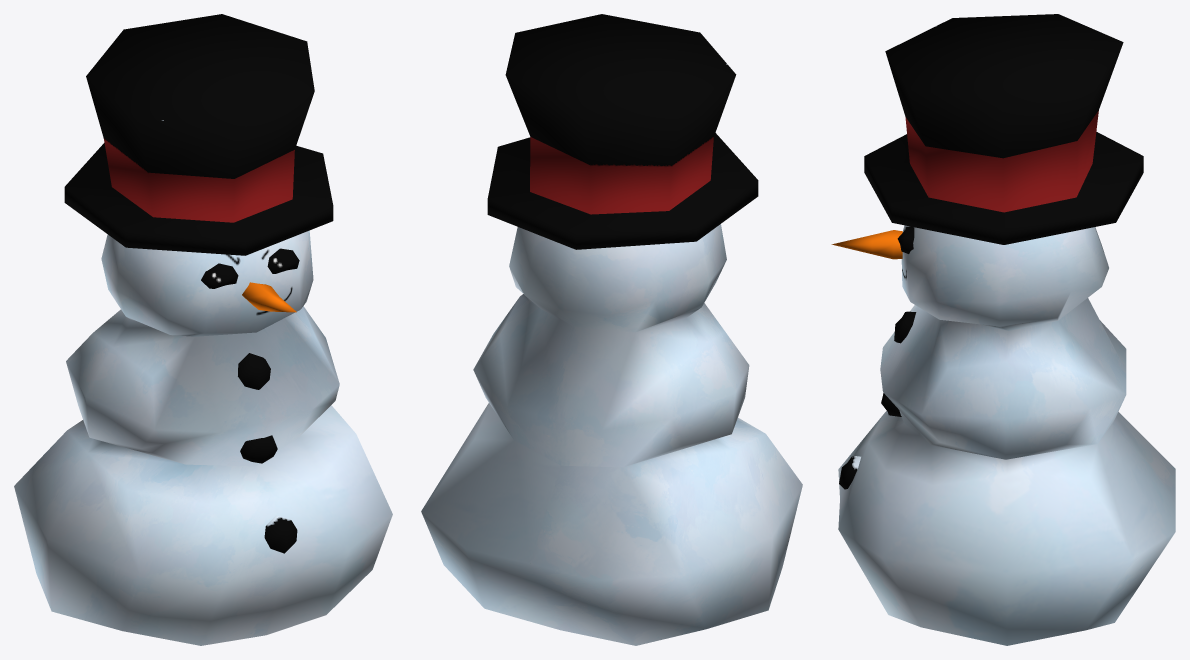
Rendered from Snowman_front.fbx.
3 views of the same model, side by side, from view 1: azimuth 30°, elevation 25°; view 2: azimuth 150°, elevation 25°; view 3: azimuth 270°, elevation 25° (orthographic).
Parts seen in each view (by area): view 1: polySurface1, polySurface3, polySurface2, polySurface10, polySurface8, polySurface9, polySurface61, polySurface4; view 2: polySurface1, polySurface3; view 3: polySurface1, polySurface3, polySurface2.
Boxes of the visible parts, x1,y1,x2,y2 form: polySurface1: (14, 230, 392, 645); polySurface3: (64, 14, 333, 255); polySurface2: (242, 282, 296, 312); polySurface10: (264, 515, 297, 553); polySurface8: (238, 353, 270, 389); polySurface9: (240, 435, 277, 463); polySurface61: (201, 263, 238, 288); polySurface4: (267, 248, 299, 273); polySurface1: (421, 224, 802, 645); polySurface3: (487, 14, 758, 249); polySurface1: (838, 225, 1175, 645); polySurface3: (864, 14, 1143, 244); polySurface2: (831, 230, 902, 259).
Bounding box in the file's own units: 79.04 × 130 × 73.73.
